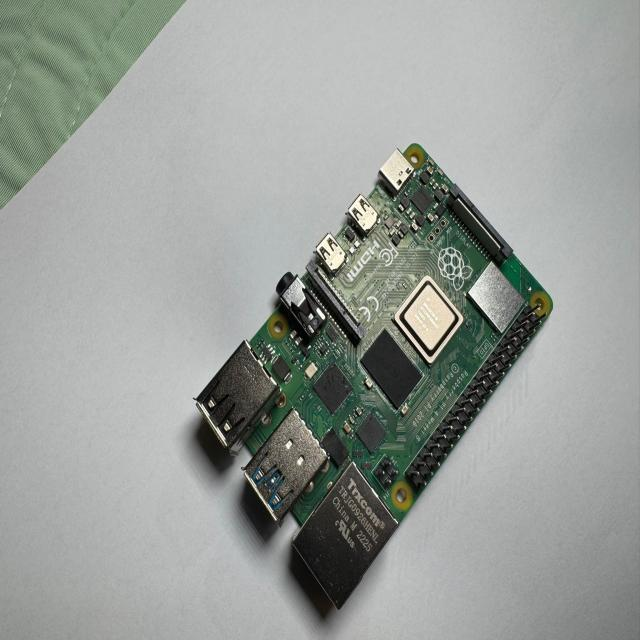CPU: (393, 278, 463, 368)
Ethernet: (289, 463, 400, 622)
GPIO: (407, 313, 547, 504)
RAM: (361, 329, 423, 412)
Raspberry: (193, 143, 554, 611)
micro-hdmi: (347, 189, 380, 233), (321, 233, 349, 268)
